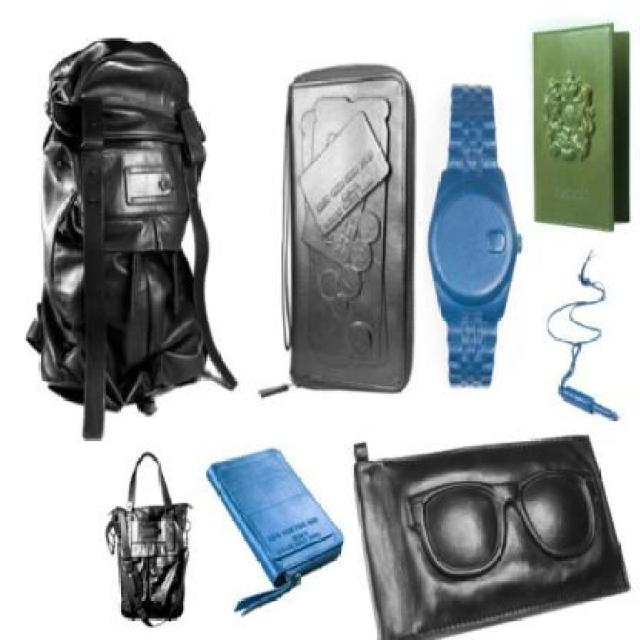backpack: (20, 32, 243, 448), (102, 449, 198, 629)
